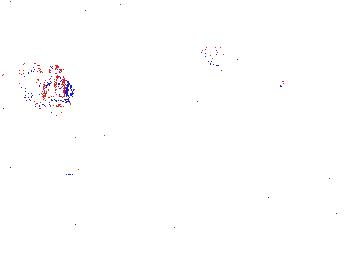X-ray fish: (1, 62, 80, 111)
glassfish: (191, 45, 301, 103)
